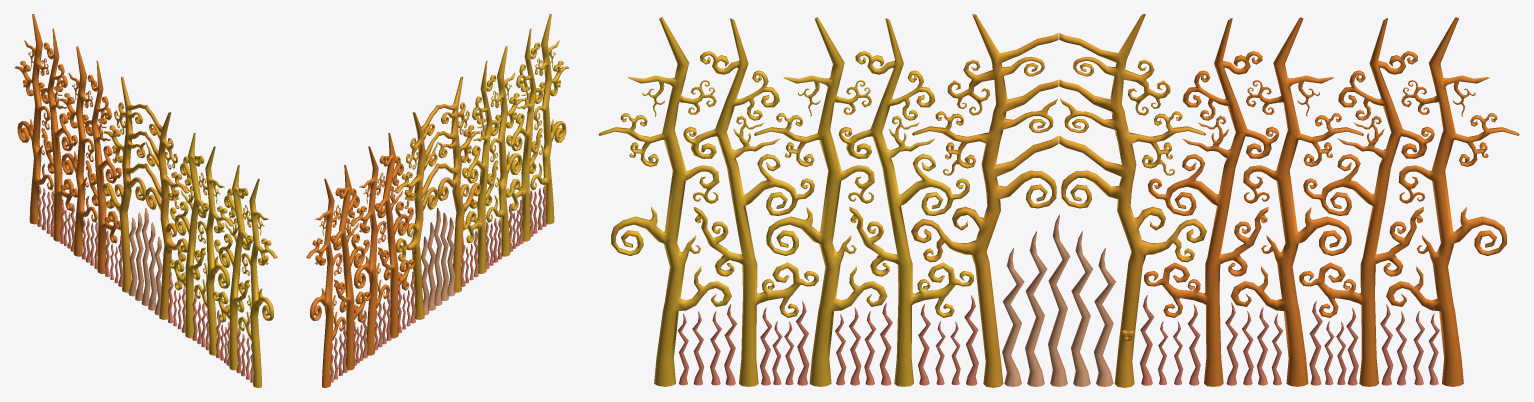
Rendered from Portal_low 1.fbx.
The picture shows the model from 3 angles, left to right: view 1: azimuth 30°, elevation 25°; view 2: azimuth 150°, elevation 25°; view 3: azimuth 270°, elevation 25°; orthographic projection. The views are drawn at different scales.
Visible parts, largest first — view 1: Portal; view 2: Portal; view 3: Portal.
Part boxes in pixels (x1,y1,x2,y2): Portal: (14,14,277,387); Portal: (306,14,569,387); Portal: (598,14,1519,387).
Bounding box in the file's own units: 50 × 1022 × 2311.
